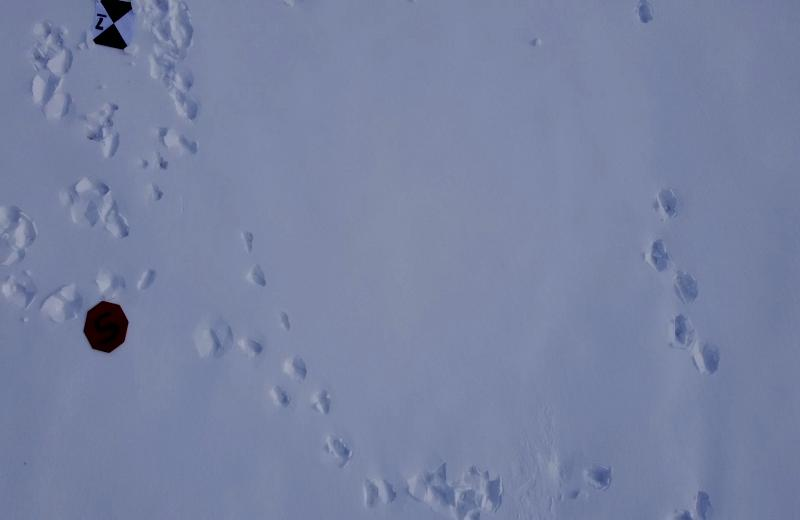Octagon: (84, 300, 131, 354)
